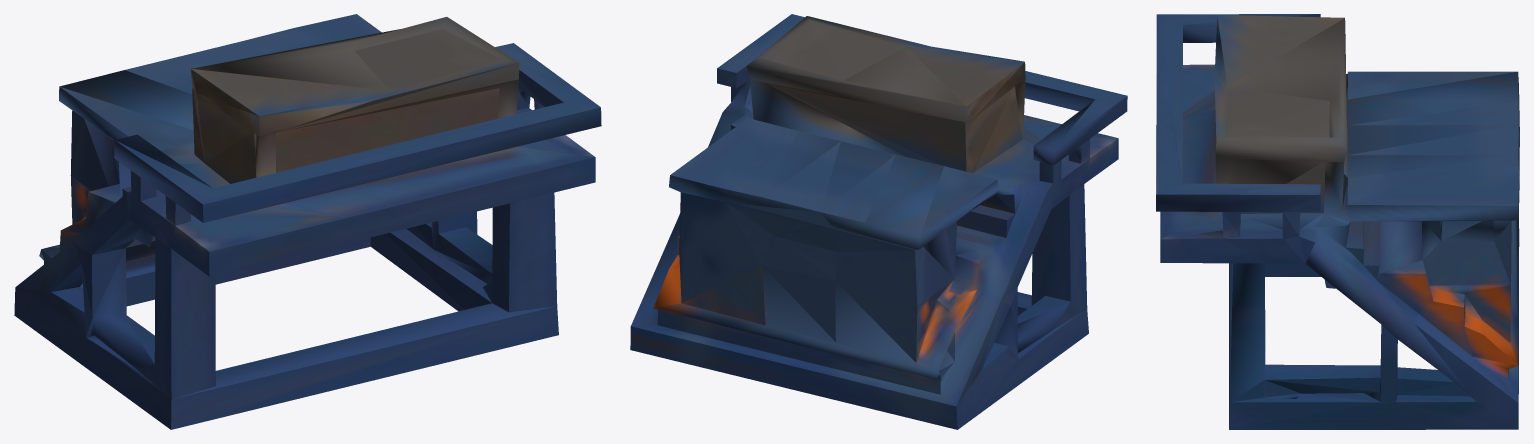
3 renders of one model, left to right at view 1: azimuth 30°, elevation 25°; view 2: azimuth 150°, elevation 25°; view 3: azimuth 270°, elevation 25°, orthographic. The views are drawn at different scales.
Visible parts, largest first — view 1: tripo_node_fb7e8506.003; view 2: tripo_node_fb7e8506.003; view 3: tripo_node_fb7e8506.003.
Part boxes in pixels (<box>): tripo_node_fb7e8506.003: <box>14,14,601,429</box>; tripo_node_fb7e8506.003: <box>630,14,1127,429</box>; tripo_node_fb7e8506.003: <box>1156,14,1519,429</box>.
Size of the model in its own units: 15.23 by 10.86 by 12.94.
Materials: 1 (1 with a texture image).
